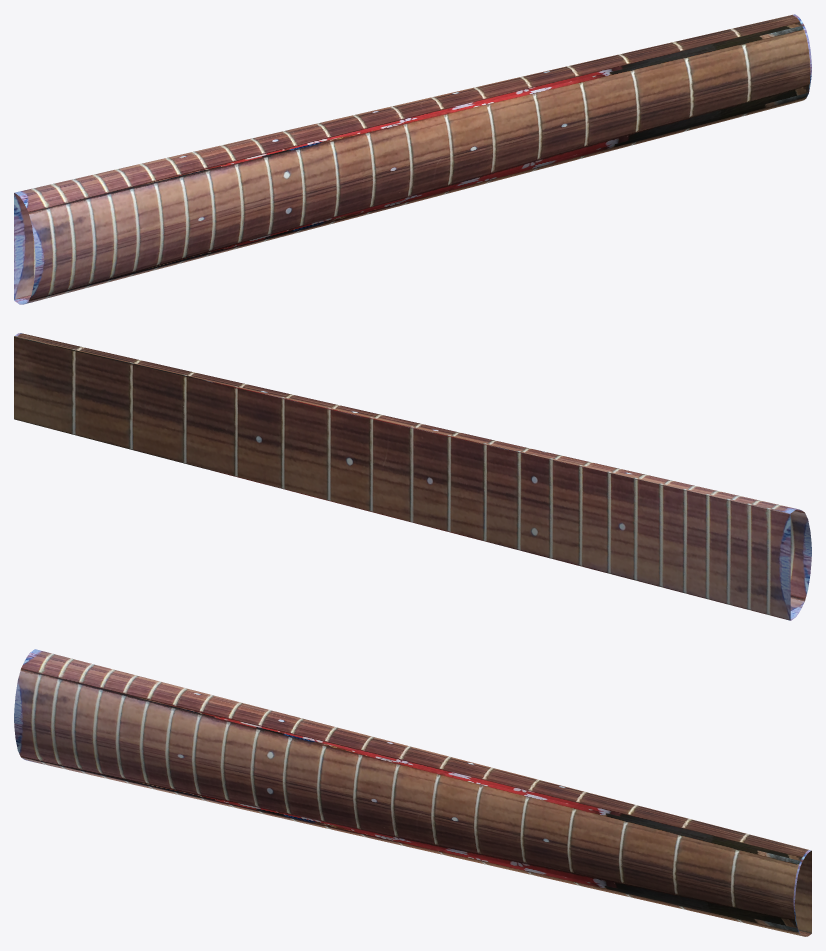
The model's file is guitarNeck_01.fbx.
3 renders of one model, top to bottom at view 1: azimuth 30°, elevation 25°; view 2: azimuth 150°, elevation 25°; view 3: azimuth 330°, elevation 25°, orthographic.
Parts seen in each view (by area): view 1: 01-fretboard; view 2: 01-fretboard; view 3: 01-fretboard.
Part boxes in pixels (bbox=[...]): 01-fretboard: bbox=[14, 14, 811, 304]; 01-fretboard: bbox=[14, 333, 811, 620]; 01-fretboard: bbox=[14, 649, 811, 936].
Size of the model in its own units: 6400 by 848 by 307.
1 material, 1 textured.
